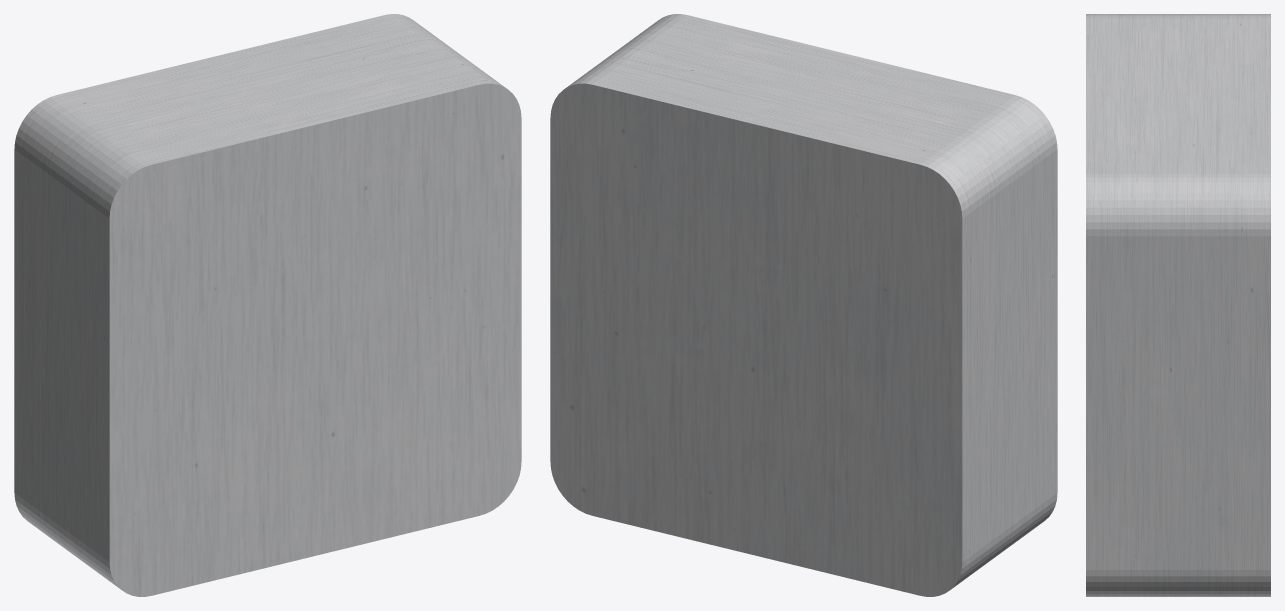
Rendered from icons-transformed.glb.
The picture shows the model from 3 angles, left to right: view 1: azimuth 30°, elevation 25°; view 2: azimuth 150°, elevation 25°; view 3: azimuth 270°, elevation 25°; orthographic projection. The views are drawn at different scales.
Parts seen in each view (by area): view 1: Cube.001; view 2: Cube.001; view 3: Cube.001.
Part boxes in pixels (x1,y1,x2,y2): Cube.001: (14, 14, 521, 596); Cube.001: (550, 14, 1057, 596); Cube.001: (1086, 14, 1270, 596).
Bounding box in the file's own units: 0.5 × 0.5 × 0.2.
1 material, 1 textured.
